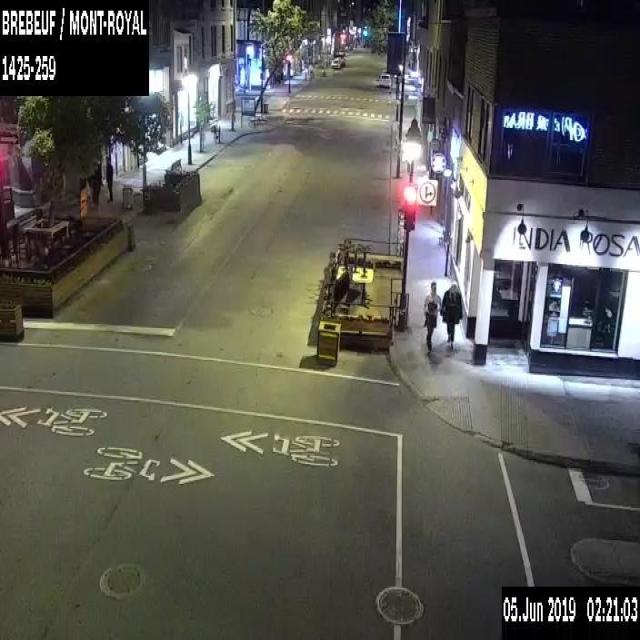pedestrian: (440, 280, 463, 348), (421, 279, 439, 349), (104, 154, 112, 202)
vehicle: (377, 72, 391, 88), (330, 54, 346, 67)
